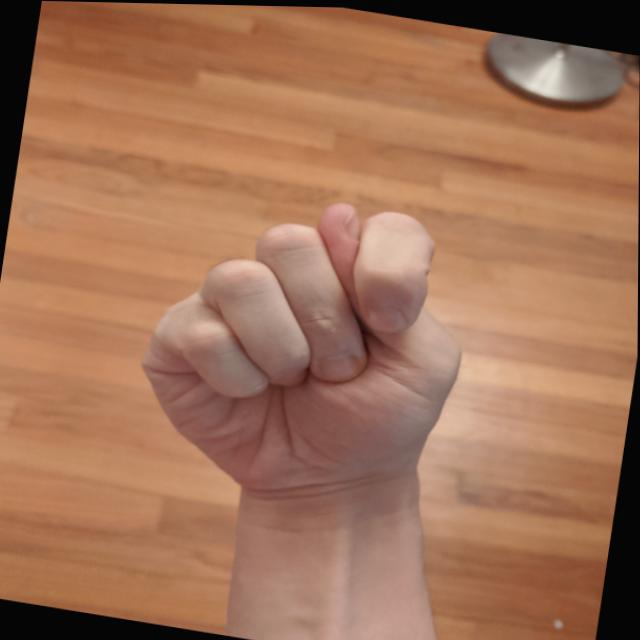T: (112, 162, 496, 533)
